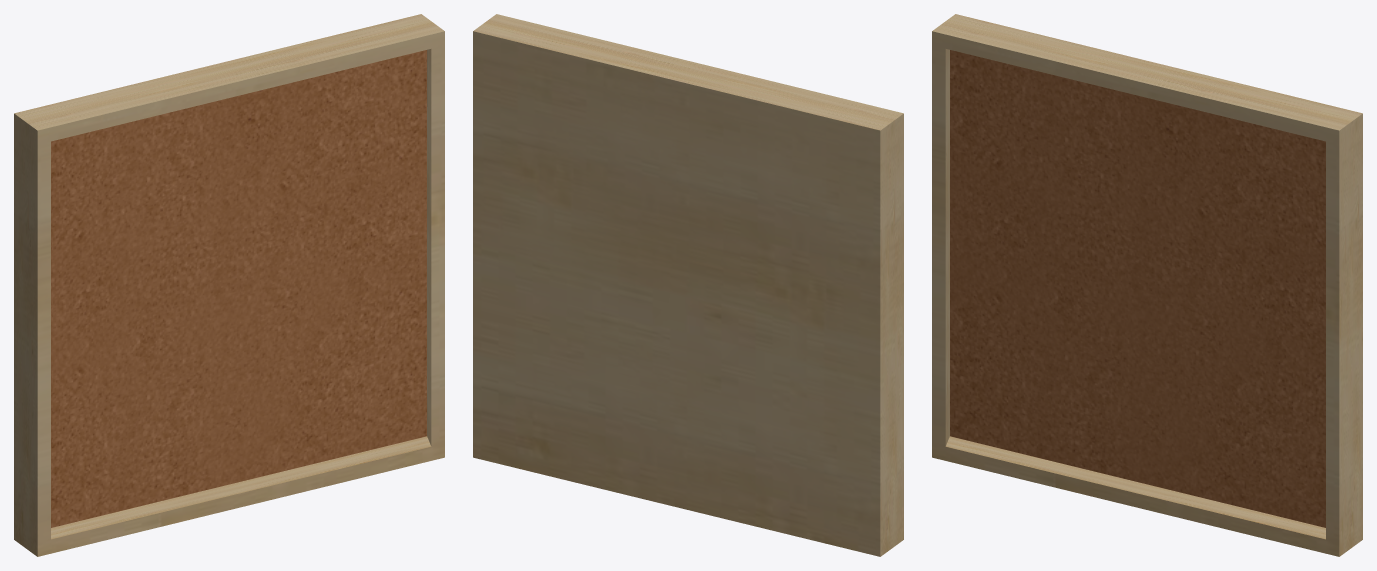
File: Bulletin_Board.fbx
3 views of the same model, side by side, from view 1: azimuth 30°, elevation 25°; view 2: azimuth 150°, elevation 25°; view 3: azimuth 330°, elevation 25° (orthographic).
Visible parts, largest first — view 1: Bulletin_Board1; view 2: Bulletin_Board1; view 3: Bulletin_Board1.
Boxes of the visible parts, x1,y1,x2,y2 form: Bulletin_Board1: [14, 14, 444, 556]; Bulletin_Board1: [473, 14, 903, 556]; Bulletin_Board1: [932, 14, 1362, 556].
Size of the model in its own units: 16.5 by 16.5 by 1.65.
